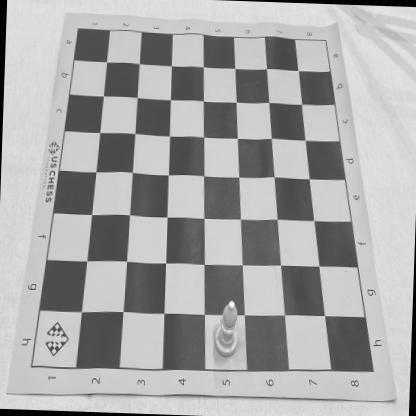bishop: (214, 300, 239, 358)
